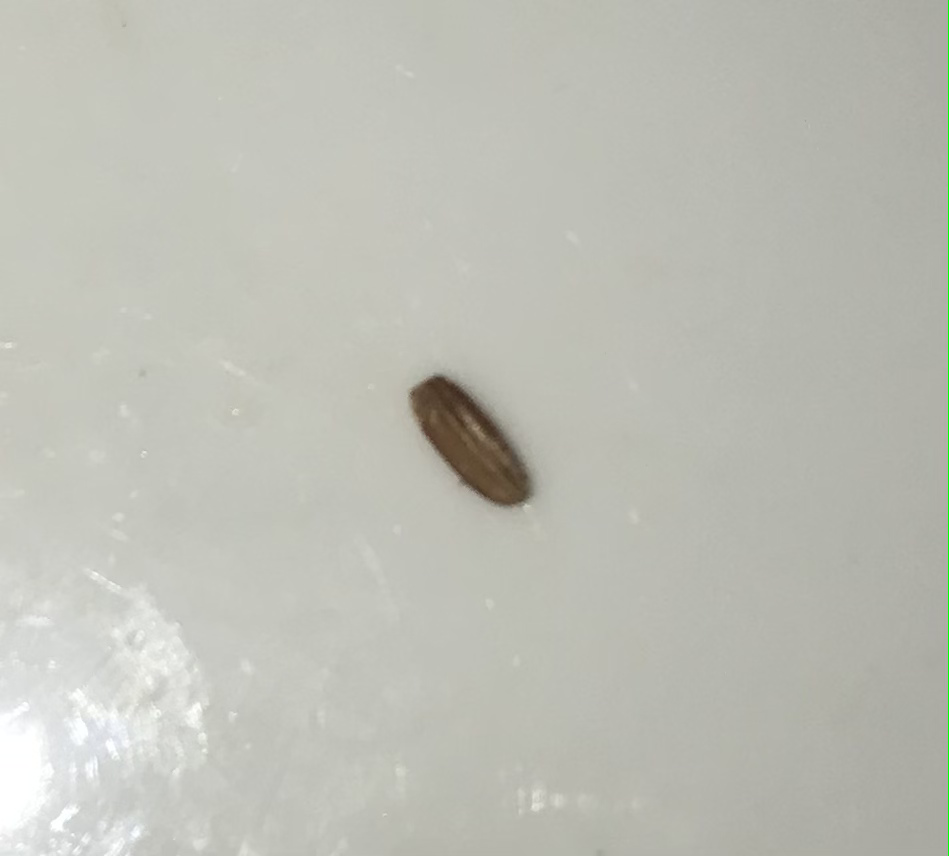Gao Lut Do: (403, 367, 533, 512)
